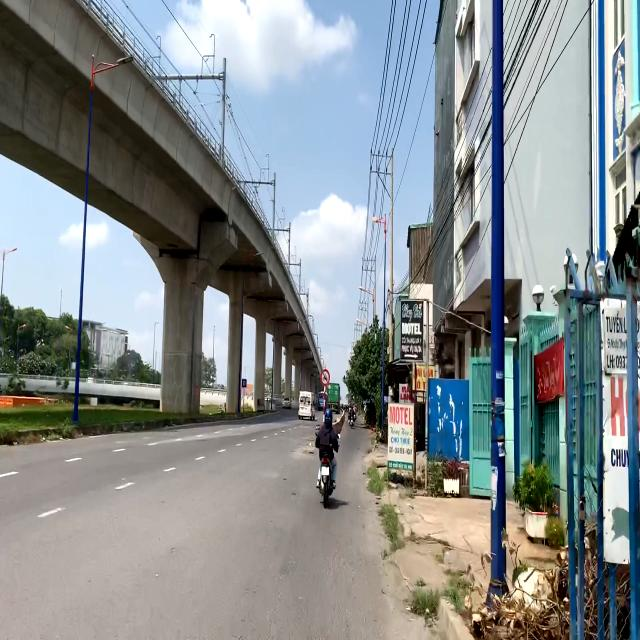P.104: (320, 368, 330, 387)
R.409: (242, 378, 247, 388)
